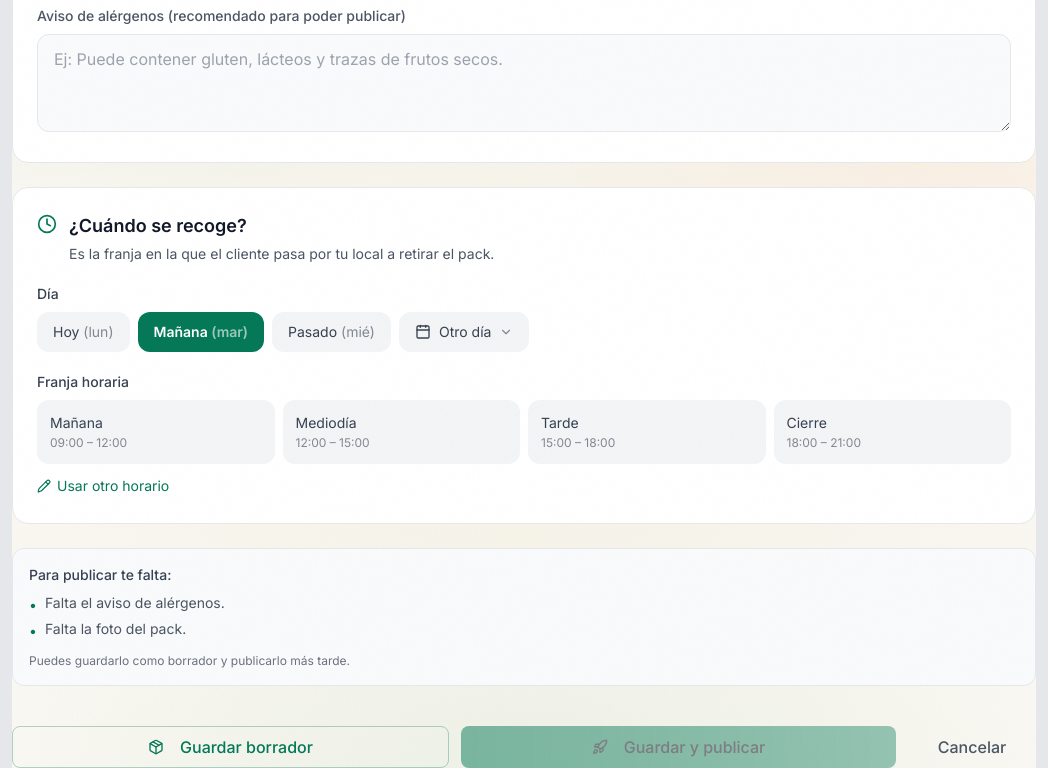
Test: PackFormSimplified — avisos y validaciones (L-31, lote 9c) › cada error se apaga solo al corregir su campo, sin volver a pulsar guardar
This screenshot has width=1048, height=768.
(page scrolled)
Click the button "Guardar borrador" at [230, 747], box [12,726,449,767]
(page scrolled)
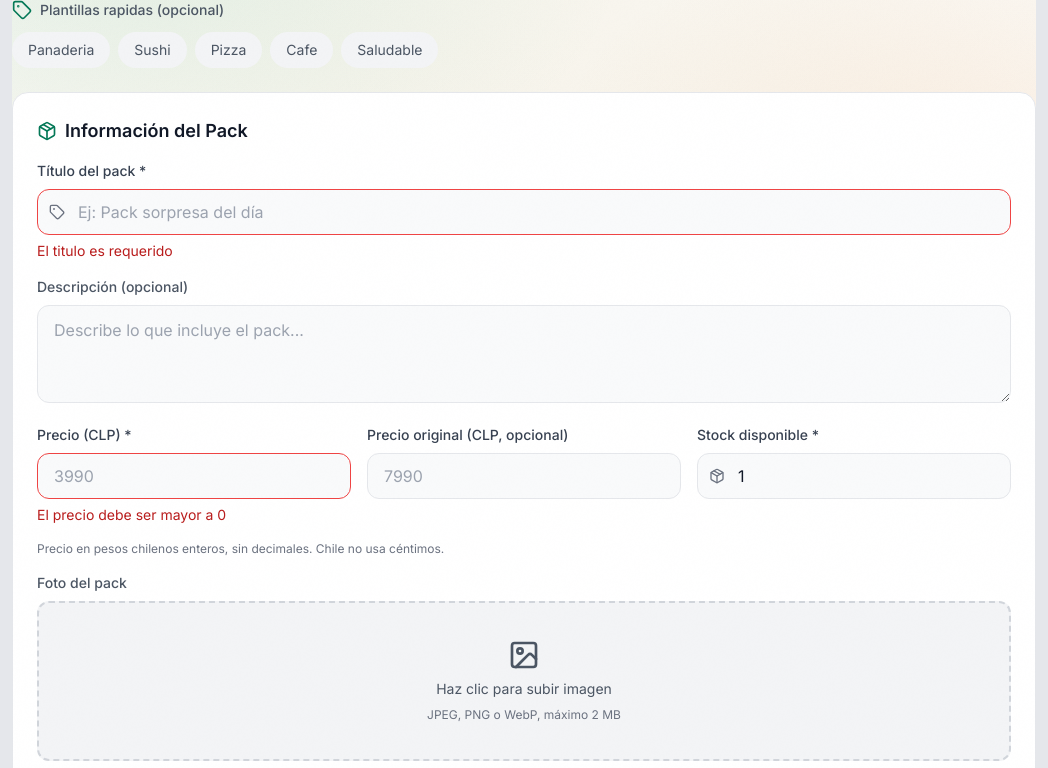
Check: the text "El titulo es requerido" is shown, box [37,242,173,259]
Type "Pack sorpresa" into the field labelled "Título del pack *" at [524, 212], box [37,189,1011,235]
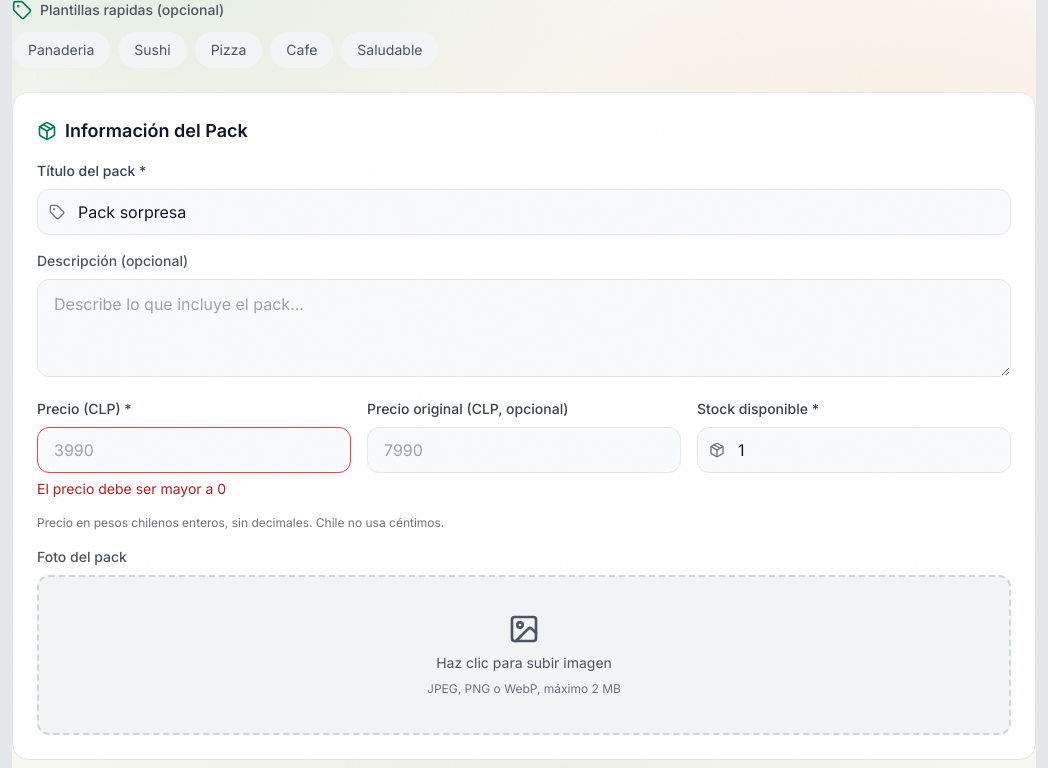
Check: the text "El precio debe ser mayor a 0" is shown, box [37,480,226,497]
Check: the text "El titulo es requerido" is gone
